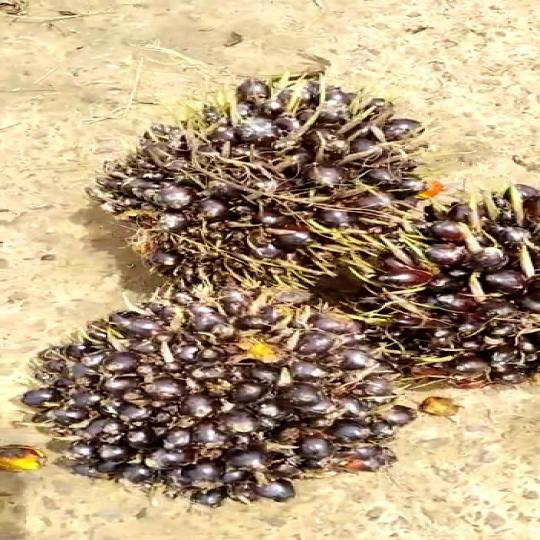mentah: (29, 289, 436, 515), (99, 70, 461, 295), (338, 184, 540, 392)
